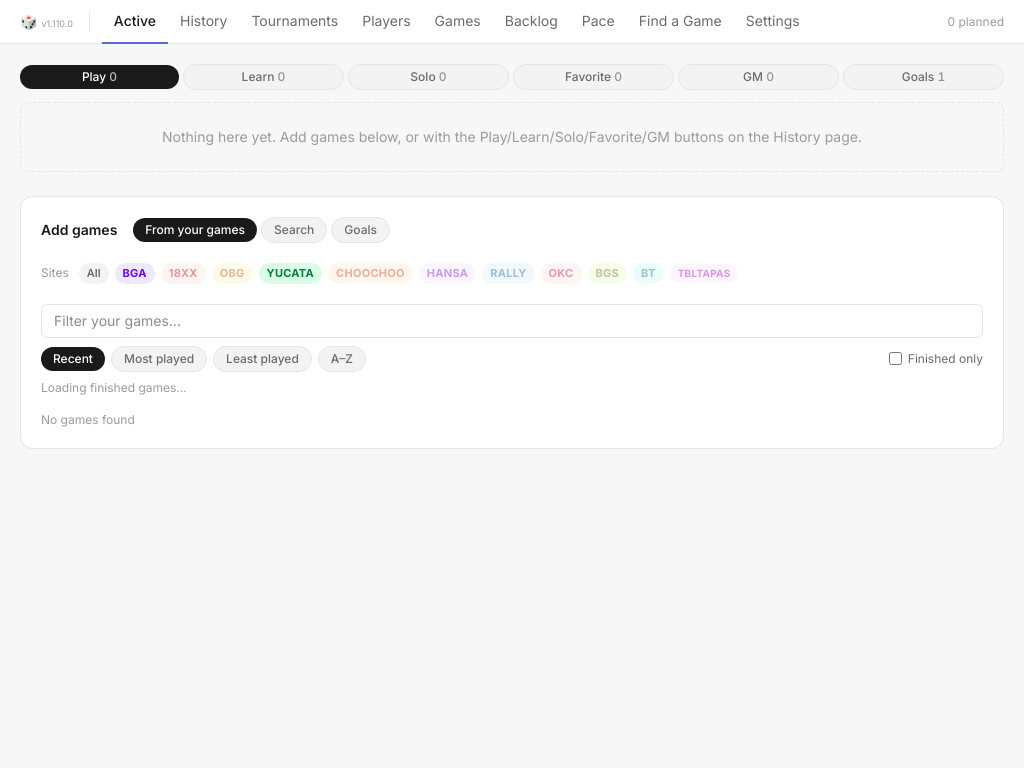
Scenario: BacklogPage Goals tab › shows in-progress and unlocked goals when the tab is selected, instead of a backlog list
Click the button "Goals 1": (924, 77) [843,64,1004,90]
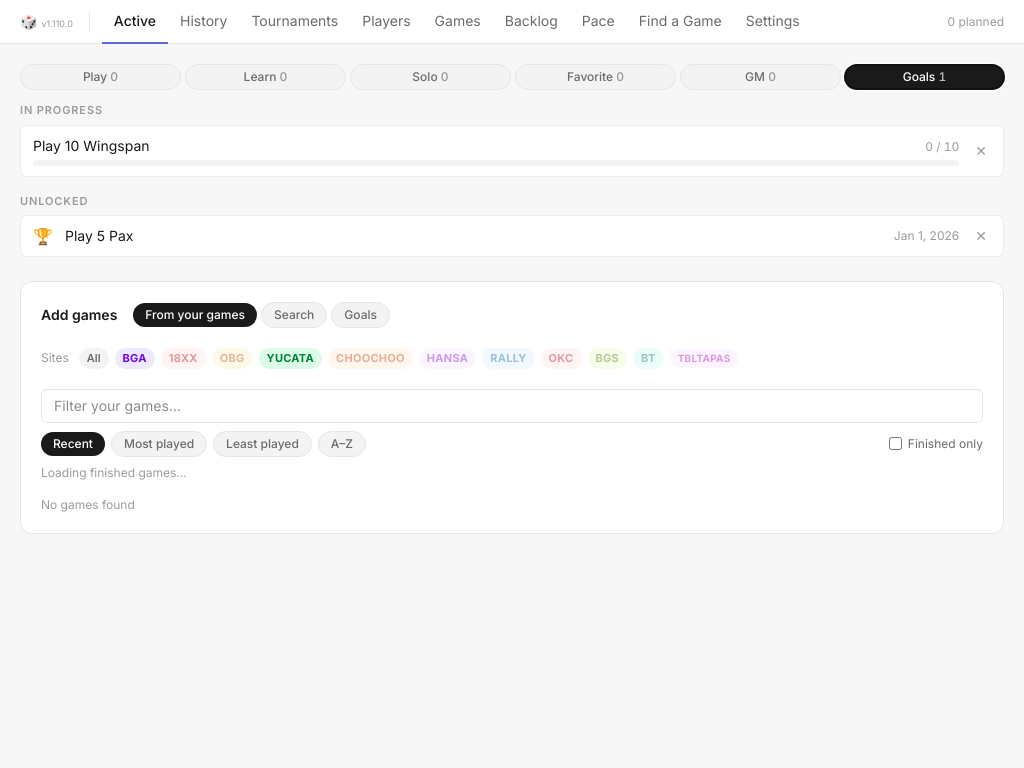
Expected: the heading "In progress" is shown, [20,103,103,117]
Expected: the text "Play 10 Wingspan" is shown, [33,136,150,156]
Expected: the heading "Unlocked" is shown, [20,194,88,208]
